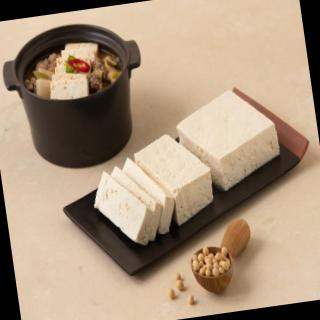Tahu: (73, 78, 298, 250)
